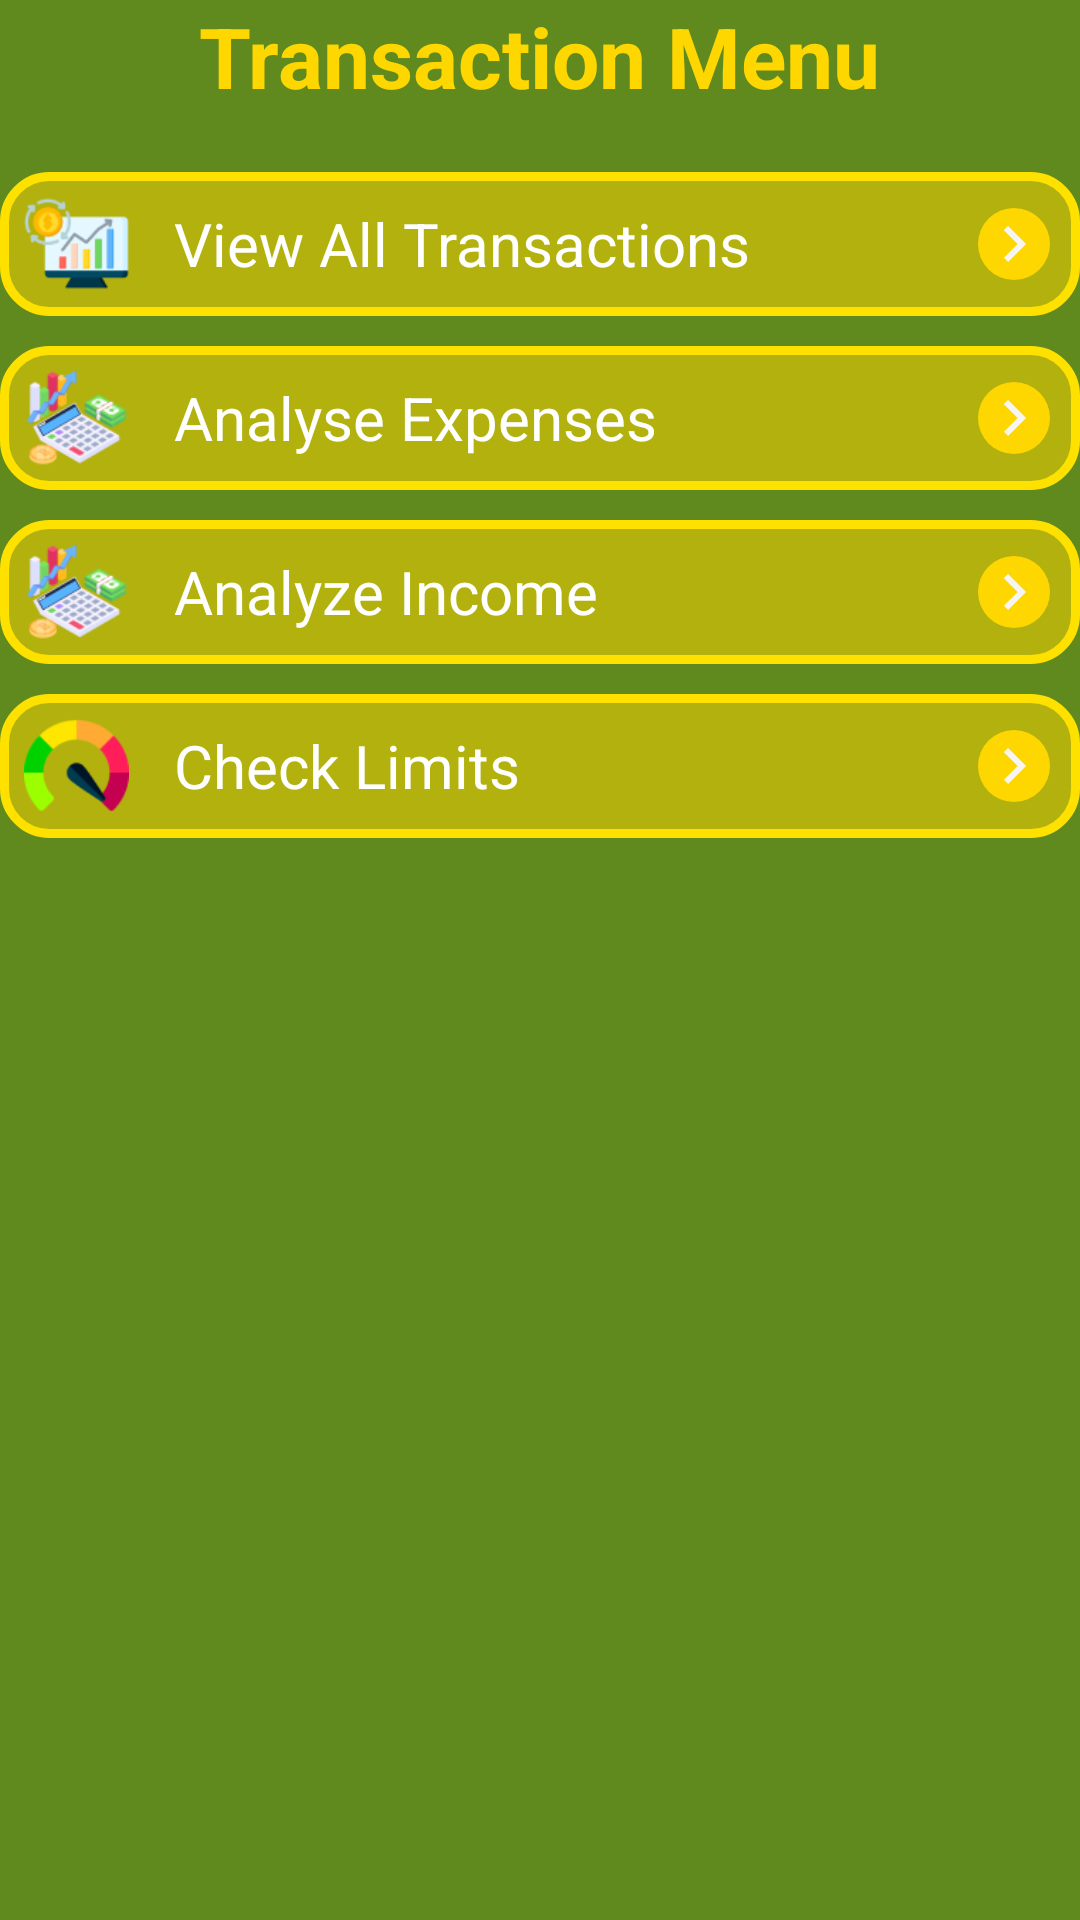

Where to tap for icons on this 1080*1920 app screen, as (x,y):
arrow right: (1014,244), (1014,418), (1014,592), (1014,766)
